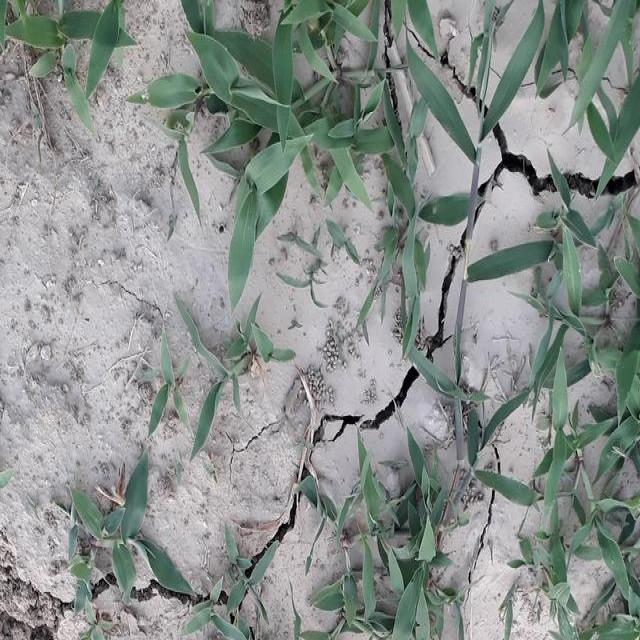weed: (490, 188, 640, 626), (180, 0, 443, 199), (478, 2, 640, 192), (298, 450, 464, 632), (62, 462, 186, 610), (182, 305, 290, 459), (15, 0, 136, 88)
